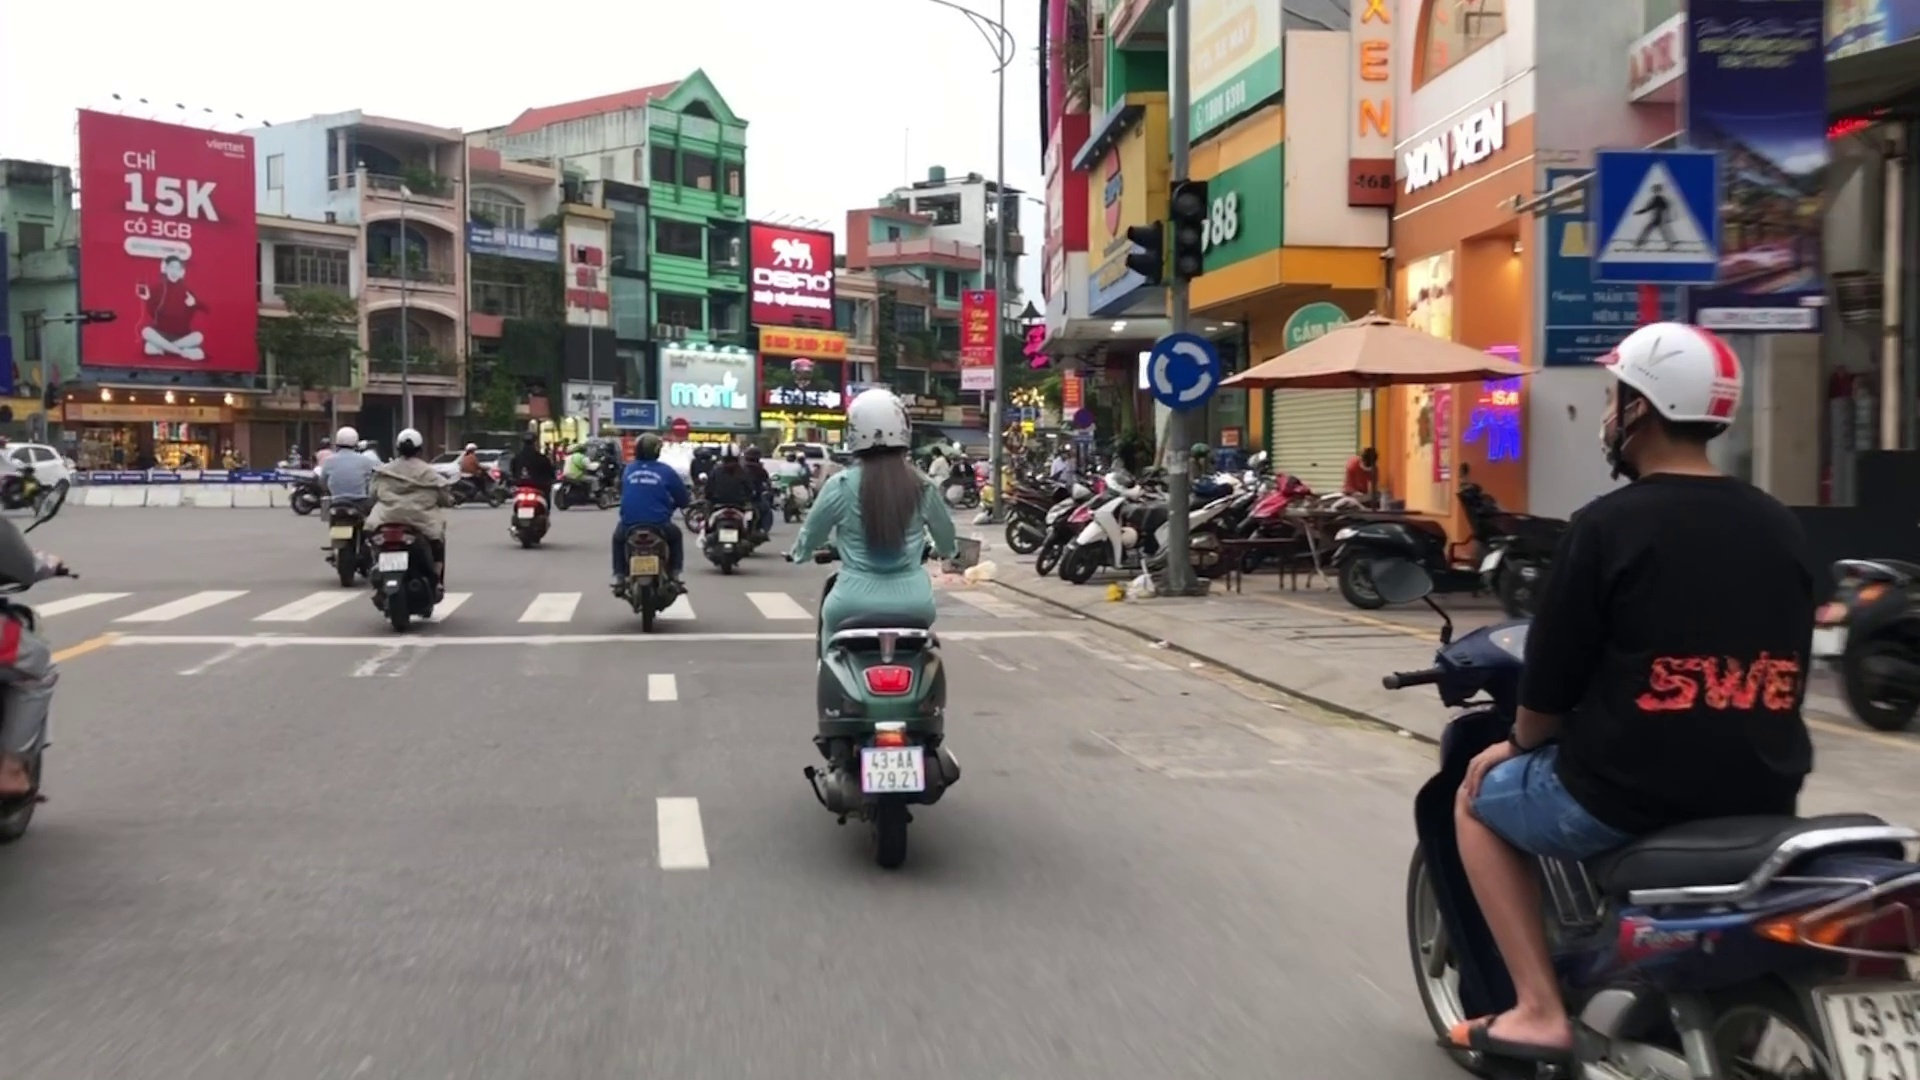Bien khac: (1146, 327, 1217, 409)
Cam di nguoc chieu: (666, 413, 688, 436)
Nguoi di bo: (1594, 146, 1717, 284)
